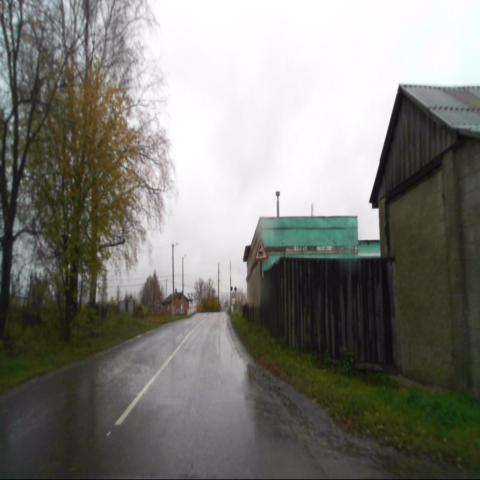1_2: (254, 237, 269, 261)
